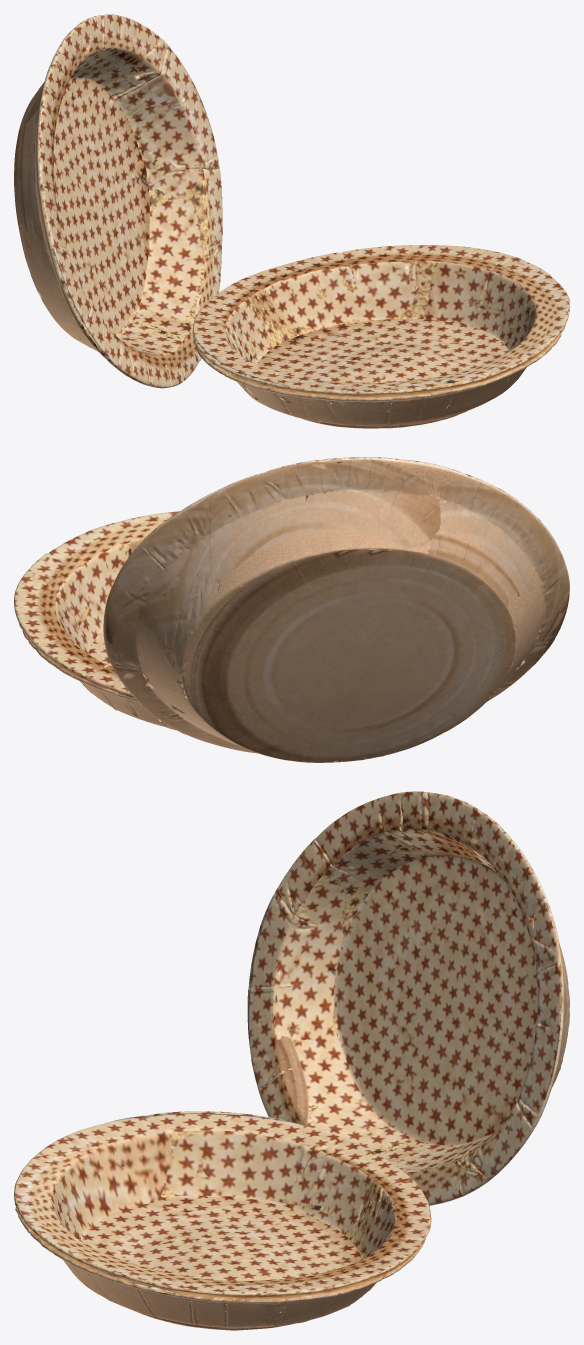
Rendered from oauth-optimized.glb.
3 views of the same model, one above another, from view 1: azimuth 30°, elevation 25°; view 2: azimuth 150°, elevation 25°; view 3: azimuth 270°, elevation 25° (orthographic). The views are drawn at different scales.
Visible parts, largest first — view 1: Mesh_0; view 2: Mesh_0; view 3: Mesh_0.
Boxes of the visible parts, x1,y1,x2,y2 form: Mesh_0: (14, 14, 569, 428); Mesh_0: (14, 457, 569, 762); Mesh_0: (14, 791, 569, 1330).
Bounding box in the file's own units: 1 × 0.654 × 0.8964.
Materials: 1 (1 with a texture image).
